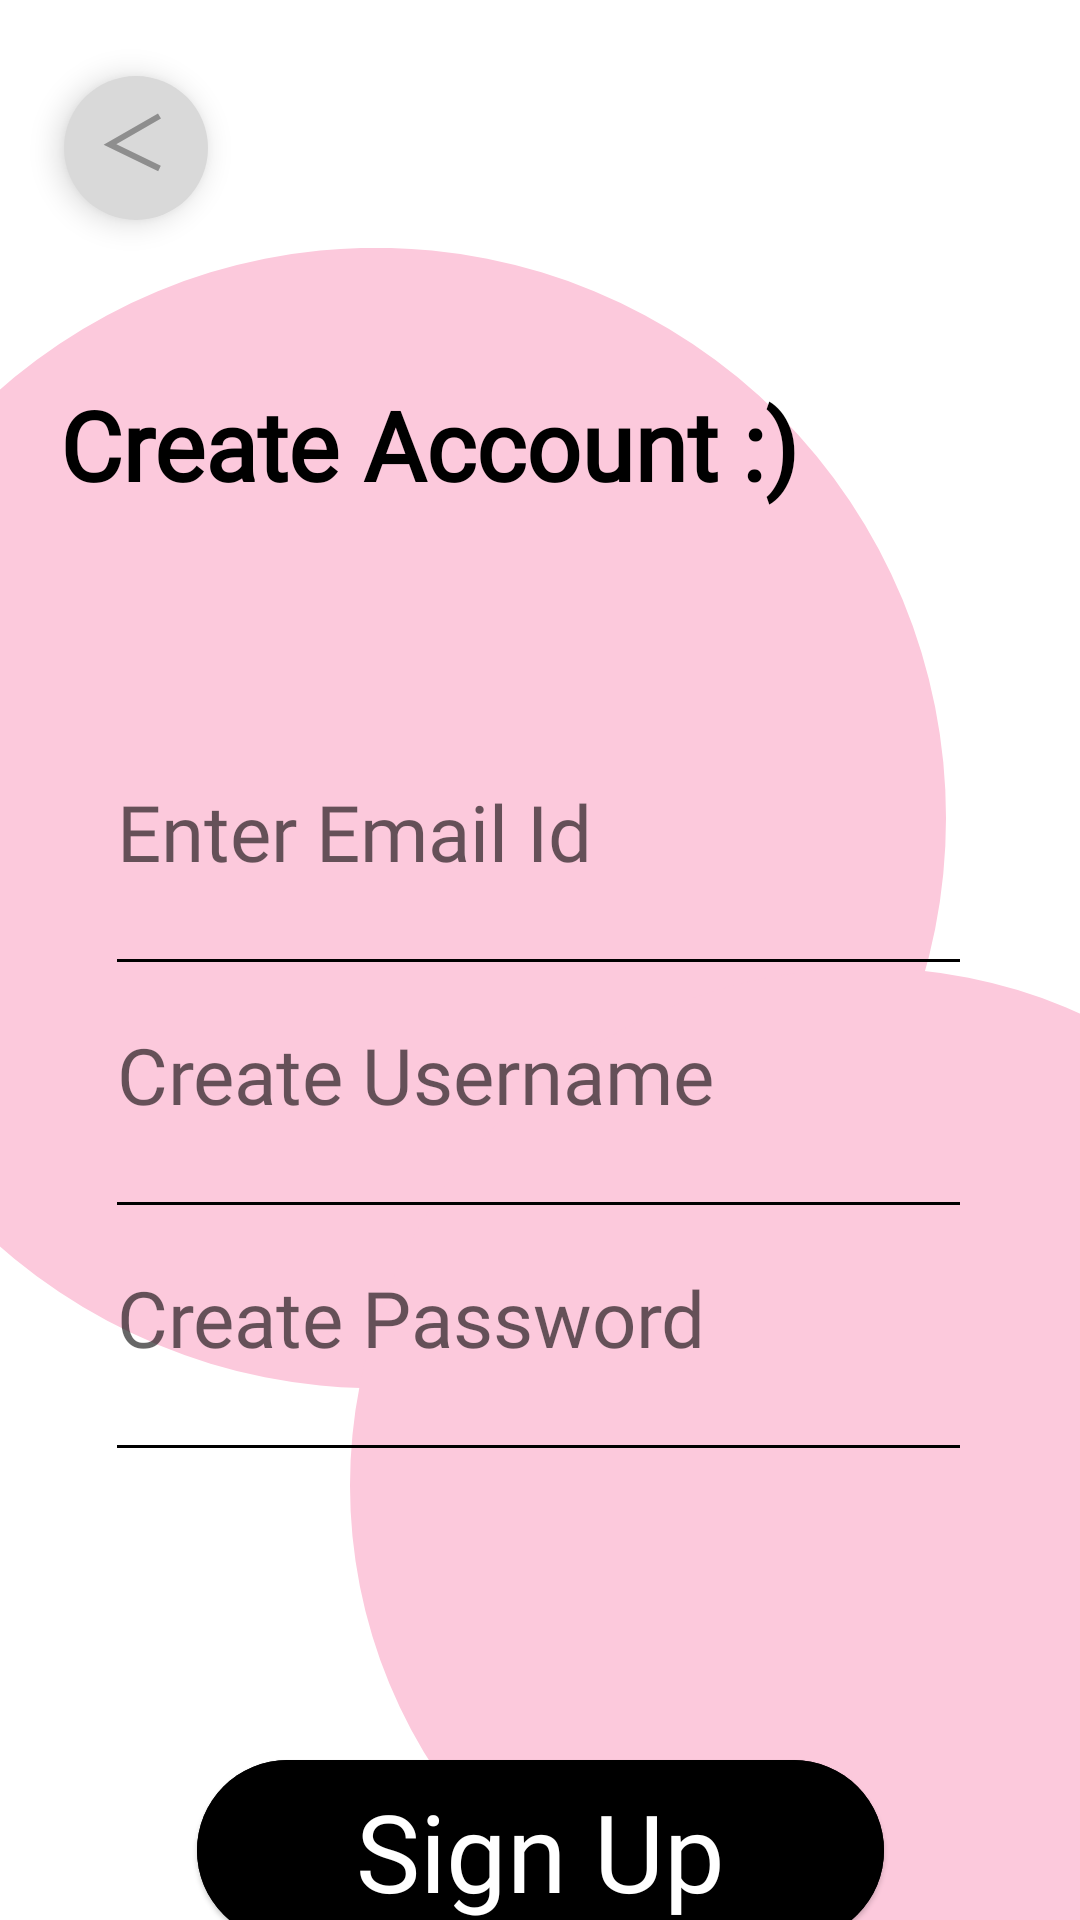

Icon bounding boxes for this 1080x1920 phone screenshot, format (x1, y1, x2, y2):
back: (63, 76, 208, 220)
